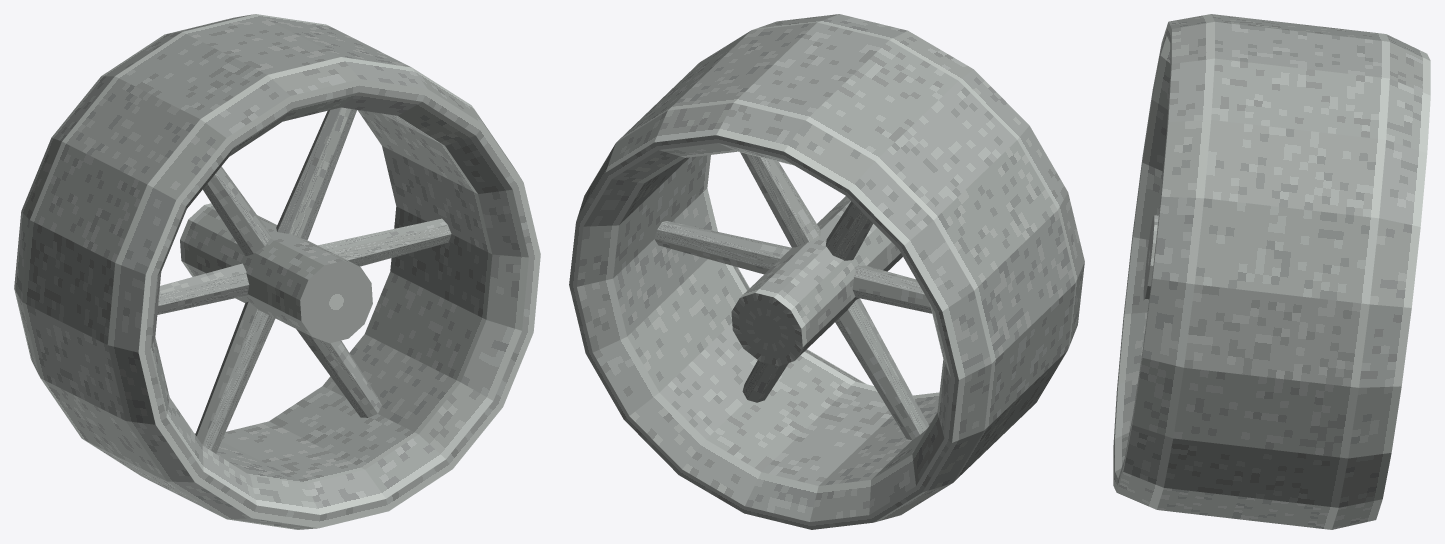
The model's file is wheel_rim_wide.glb.
The picture shows the model from 3 angles, left to right: view 1: azimuth 30°, elevation 25°; view 2: azimuth 150°, elevation 25°; view 3: azimuth 270°, elevation 25°; orthographic projection. The views are drawn at different scales.
Parts seen in each view (by area): view 1: block_wheel cross section, block_radial spoke (×6), block_wheel hub; view 2: block_wheel cross section, block_radial spoke (×6), block_wheel hub; view 3: block_wheel cross section, block_wheel hub.
Boxes of the visible parts, <box> form: block_wheel cross section: <box>14,14,540,529</box>; block_radial spoke (×6): <box>157,107,451,453</box>; block_wheel hub: <box>180,203,372,343</box>; block_wheel cross section: <box>569,14,1084,529</box>; block_radial spoke (×6): <box>654,152,932,439</box>; block_wheel hub: <box>731,196,902,366</box>; block_wheel cross section: <box>1113,14,1430,529</box>; block_wheel hub: <box>1143,215,1158,301</box>.
Bounding box in the file's own units: 0.5852 × 0.5976 × 0.371.
Materials: 1 (1 with a texture image).
